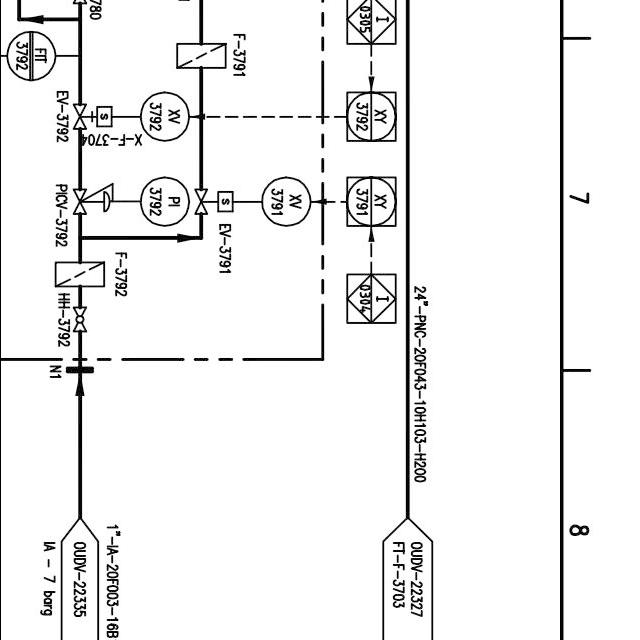BV2: (71, 304, 90, 334)
F2: (170, 38, 232, 74), (49, 257, 111, 291)
PCV: (72, 178, 117, 220)
SV: (190, 186, 238, 218), (71, 102, 116, 133)
